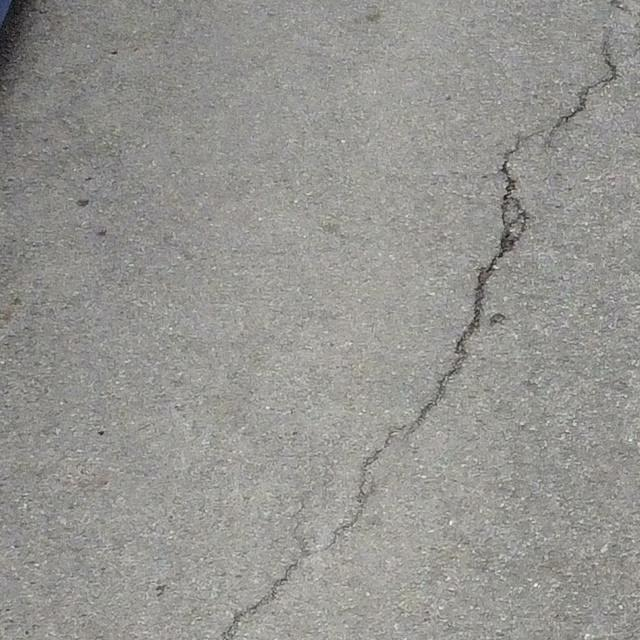LongitudinalCrack: (222, 41, 617, 637)
